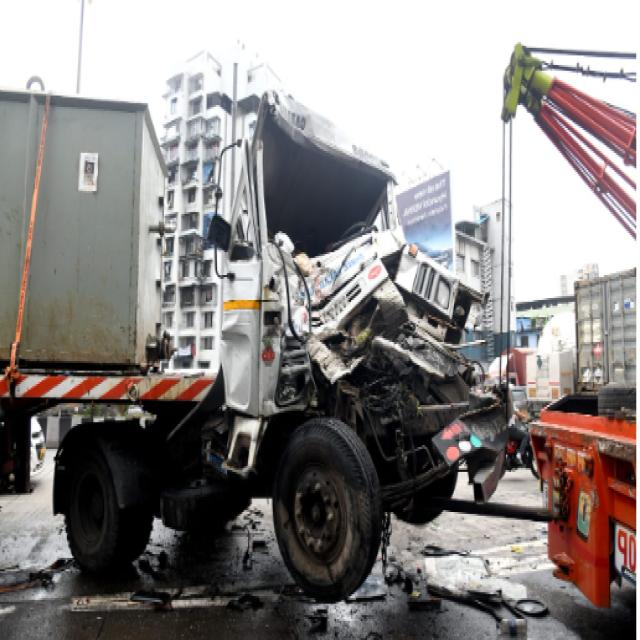accident: (0, 90, 506, 600)
